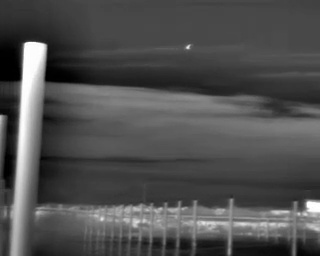BIRD: (183, 41, 194, 53)
